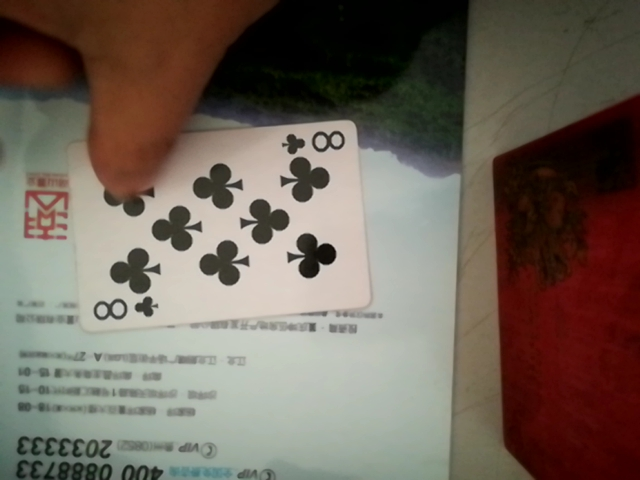mh 8: (65, 113, 376, 330)
